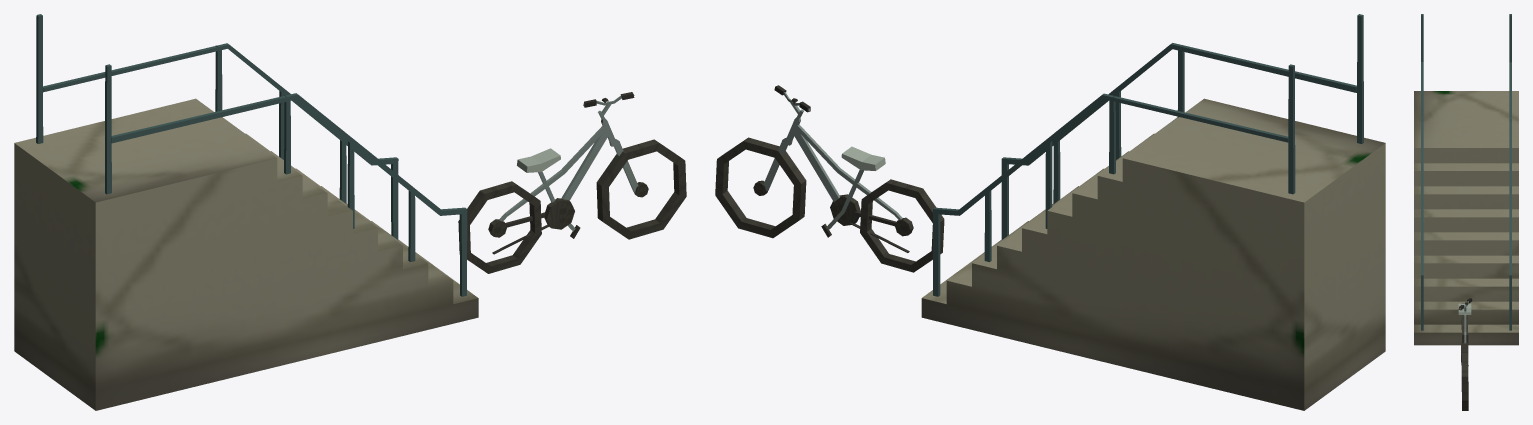
The model's file is STAIRS AND BIKE.fbx.
The picture shows the model from 3 angles, left to right: view 1: azimuth 30°, elevation 25°; view 2: azimuth 150°, elevation 25°; view 3: azimuth 270°, elevation 25°; orthographic projection. The views are drawn at different scales.
Visible parts, largest first — view 1: STAIRS, Plane.001; view 2: STAIRS, Plane.001; view 3: STAIRS, Plane.001.
Part boxes in pixels (bbox=[...]): STAIRS: bbox=[14, 14, 478, 410]; Plane.001: bbox=[458, 92, 686, 273]; STAIRS: bbox=[921, 14, 1385, 410]; Plane.001: bbox=[715, 85, 944, 272]; STAIRS: bbox=[1414, 14, 1518, 345]; Plane.001: bbox=[1458, 298, 1472, 410].
Bounding box in the file's own units: 1087 × 556 × 244.
1 material, 1 textured.
